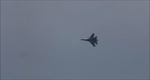maybay_muctieu: (81, 32, 98, 49)
